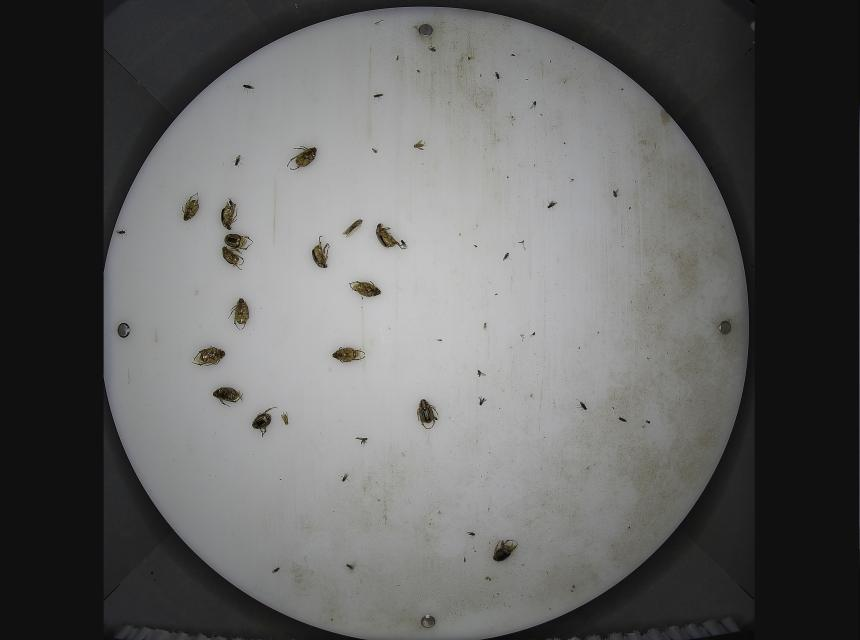Tiny fly: (576, 398, 591, 413), (354, 435, 369, 449), (337, 471, 353, 484), (230, 154, 244, 168), (116, 225, 129, 240), (242, 81, 255, 95), (491, 70, 504, 83), (546, 199, 559, 212), (616, 414, 630, 426), (477, 396, 489, 407), (271, 564, 283, 575), (372, 92, 385, 102), (344, 562, 357, 572), (476, 369, 488, 379), (465, 529, 477, 539), (612, 186, 621, 199), (501, 252, 512, 262), (529, 100, 537, 112), (481, 321, 489, 331), (529, 331, 537, 339), (371, 147, 379, 154), (568, 177, 576, 183)
insect: (375, 222, 407, 252), (286, 145, 319, 172), (251, 407, 279, 438), (190, 345, 227, 368), (308, 235, 332, 269), (228, 297, 252, 331), (416, 398, 439, 430), (211, 386, 244, 408), (348, 280, 383, 300), (492, 538, 519, 563), (220, 196, 239, 231), (221, 245, 244, 271), (331, 346, 366, 363), (222, 233, 255, 251), (181, 191, 200, 222), (280, 410, 290, 426)
moth: (341, 217, 365, 240)
skeeter: (413, 139, 428, 152)
